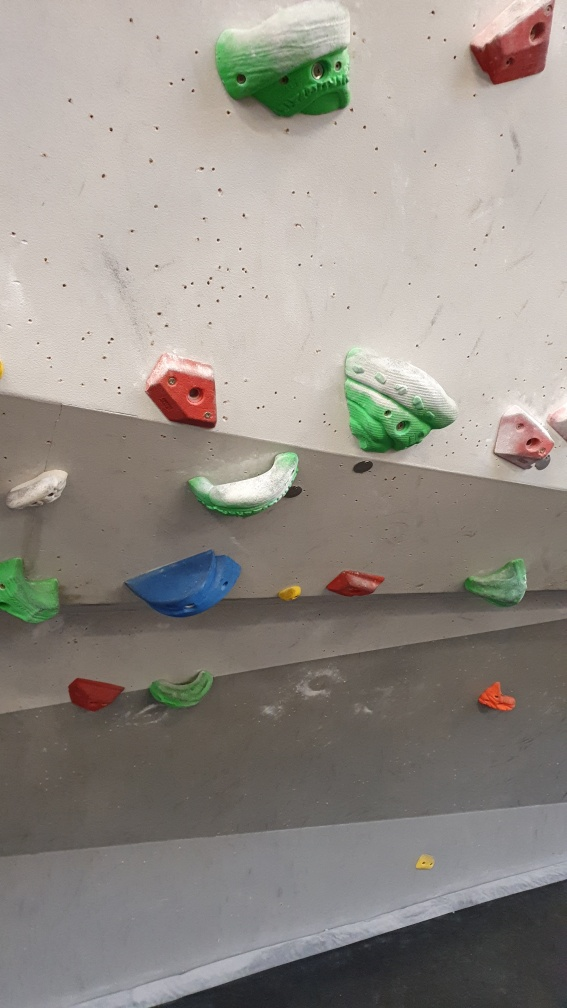Crimp: (466, 1, 558, 86), (141, 345, 223, 429), (489, 404, 553, 468), (324, 565, 391, 599)
Hand Start: (347, 459, 377, 478), (534, 450, 553, 478), (283, 480, 306, 502)
Jug: (207, 1, 360, 125), (336, 343, 461, 455), (186, 447, 303, 520), (1, 559, 67, 628), (461, 556, 535, 615), (149, 661, 222, 715), (1, 466, 72, 517)
Pinch: (120, 545, 245, 619)
